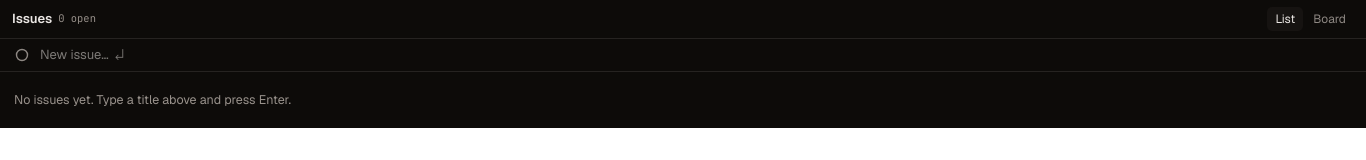
Test case: the widget (the serve knows the issue kind: true) › starts empty, adds an issue on Enter, and shows it in its status group with an id
Check: the text with test id "issues-empty" is shown, box [14, 91, 291, 108]
In the field with test id "issue-new": [697, 55] box [40, 45, 1354, 65], type "Write the docs"
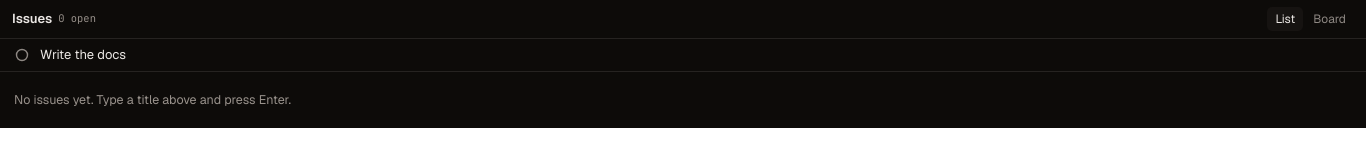
Press Enter in the field with test id "issue-new", box [40, 45, 1354, 65]
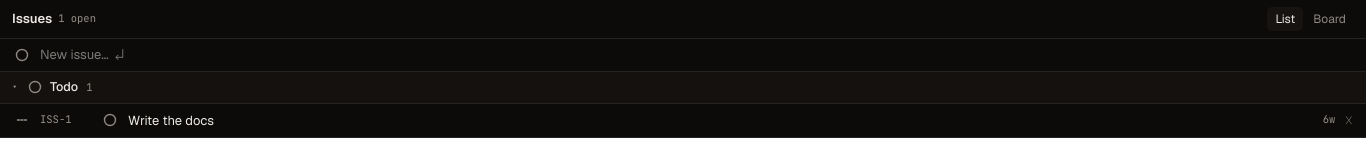
Check: the text "Write the docs" is shown, box [128, 112, 214, 128]
Check: the 6th text "ISS-1" is shown, box [40, 112, 72, 126]
Check: the field with test id "issue-new" is empty, box [40, 45, 1354, 65]
